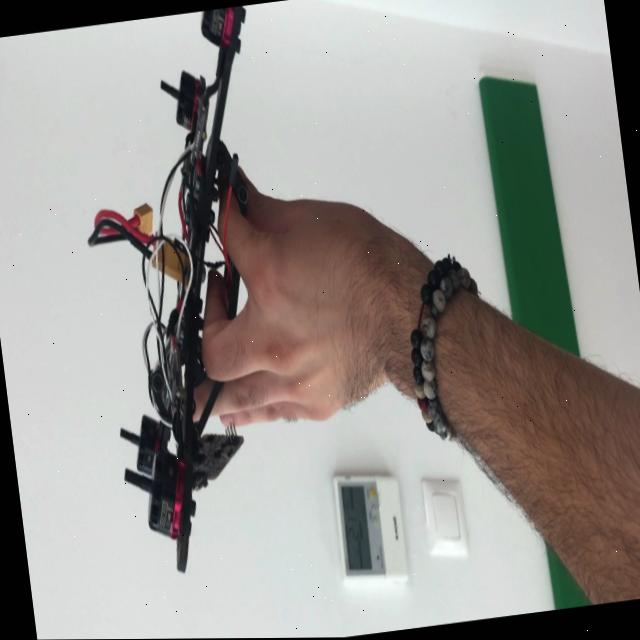drone: (70, 6, 318, 591)
